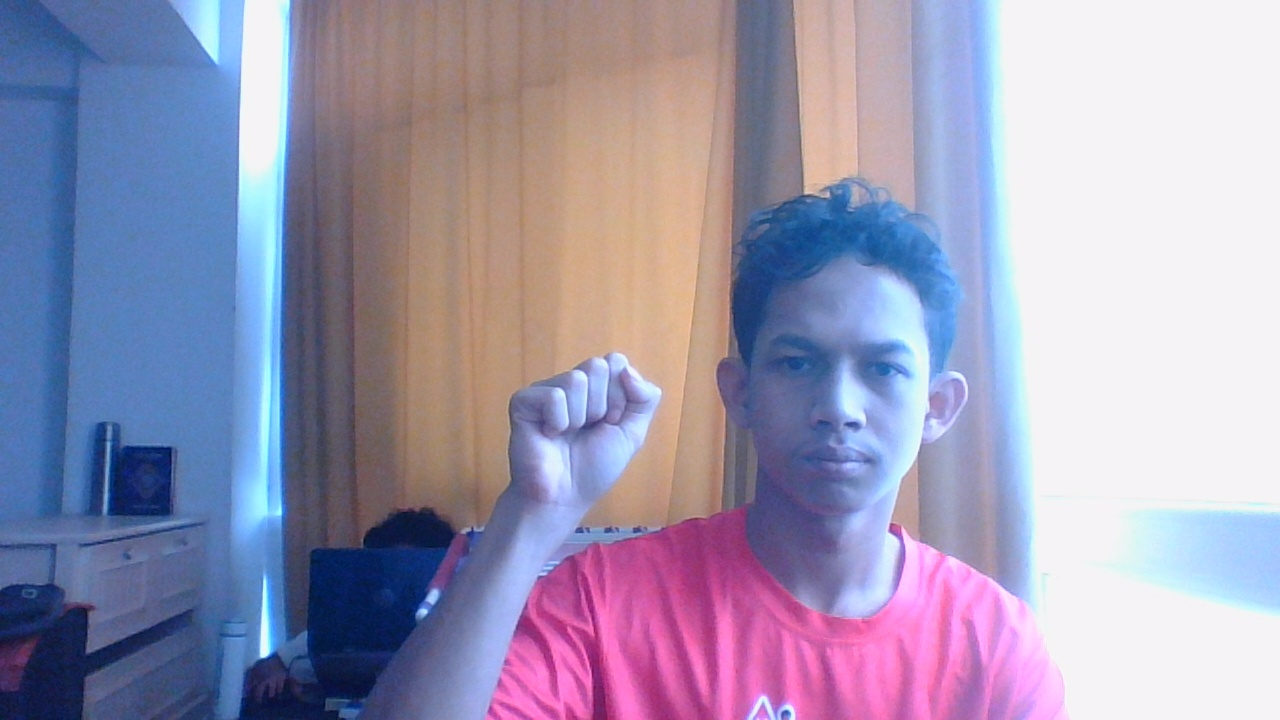yes: (476, 332, 700, 526)
